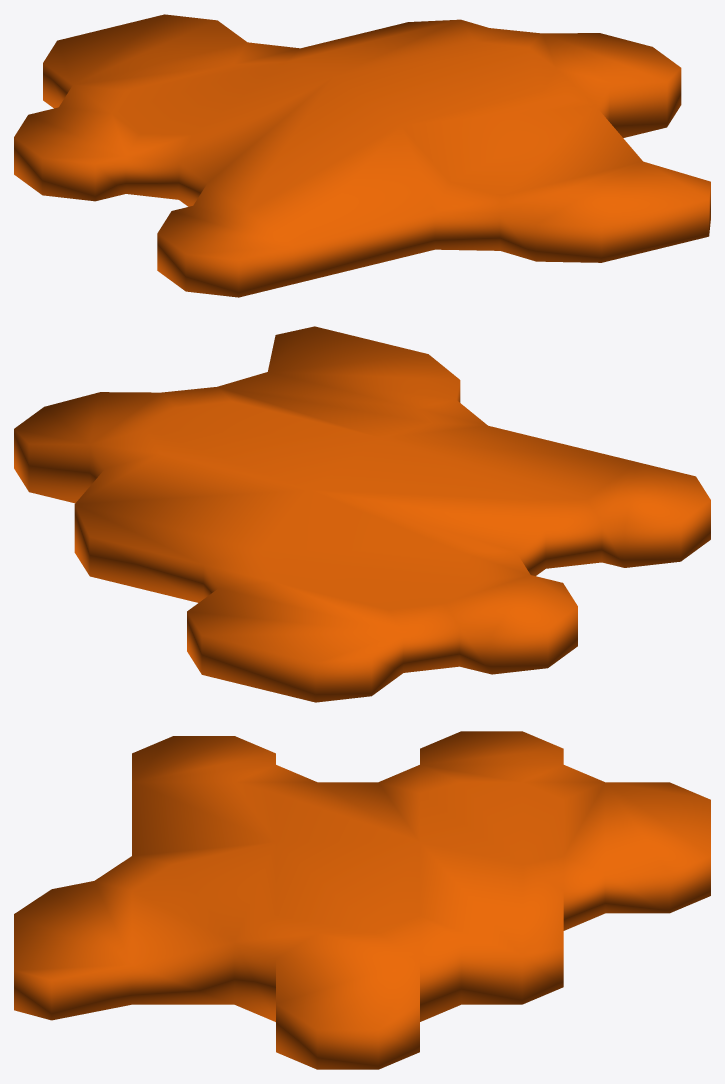
Rendered from regurgitated_fish.fbx.
The picture shows the model from 3 angles, top to bottom: view 1: azimuth 30°, elevation 25°; view 2: azimuth 150°, elevation 25°; view 3: azimuth 270°, elevation 25°; orthographic projection. The views are drawn at different scales.
Parts seen in each view (by area): view 1: RegurgitatedFish; view 2: RegurgitatedFish; view 3: RegurgitatedFish.
Boxes of the visible parts, x1,y1,x2,y2 form: RegurgitatedFish: (14,14,710,297); RegurgitatedFish: (14,326,710,702); RegurgitatedFish: (14,731,710,1069).
Bounding box in the file's own units: 0.4973 × 0.0555 × 0.4906.
